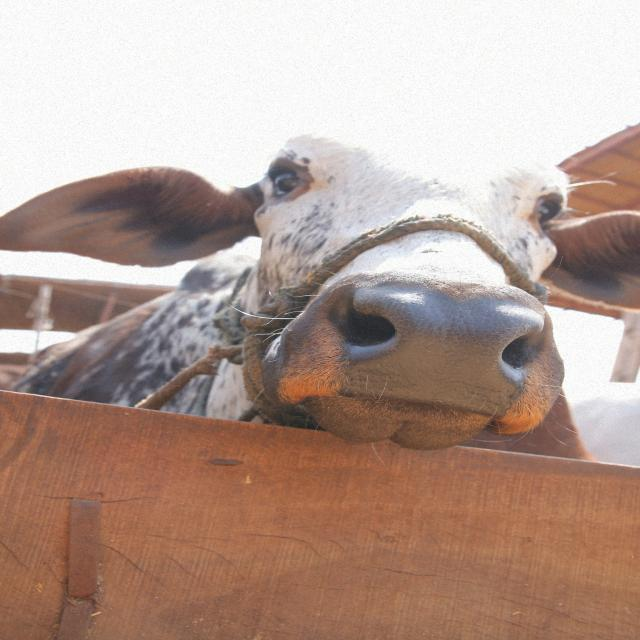muzzles: (333, 273, 549, 420)
